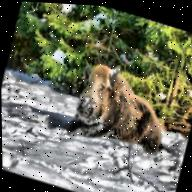boar: (52, 35, 180, 181)
